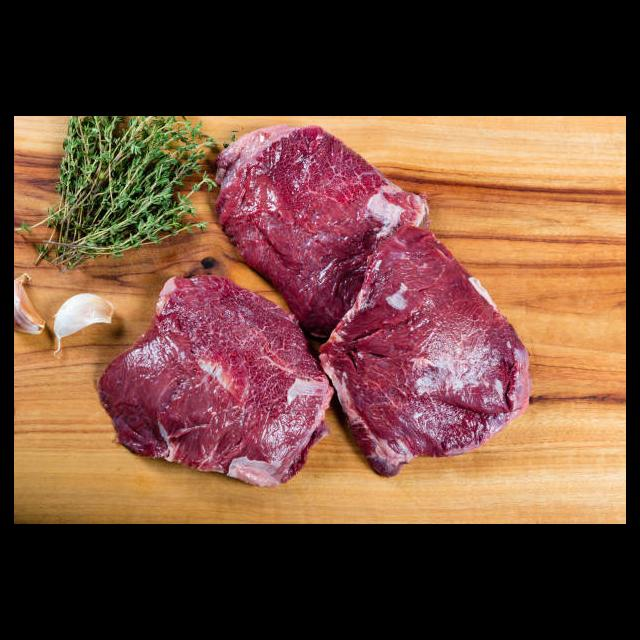beef: (317, 221, 531, 476), (97, 275, 337, 488), (211, 125, 431, 344)
